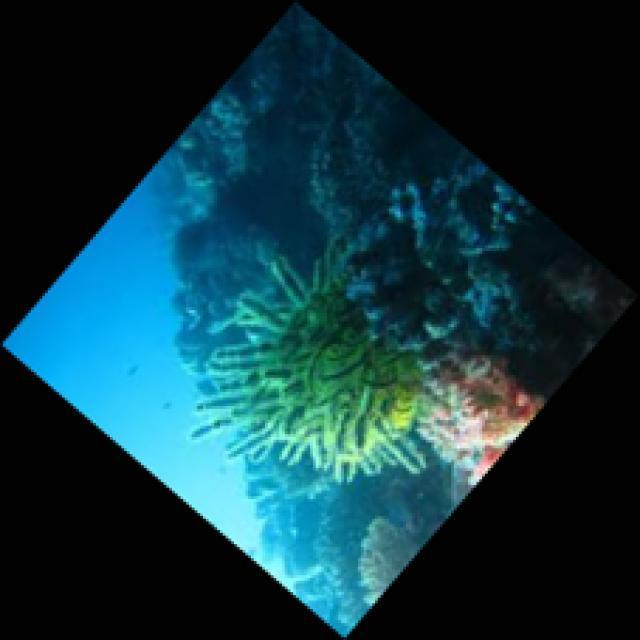Healthy: (210, 255, 437, 480), (431, 362, 544, 492)
